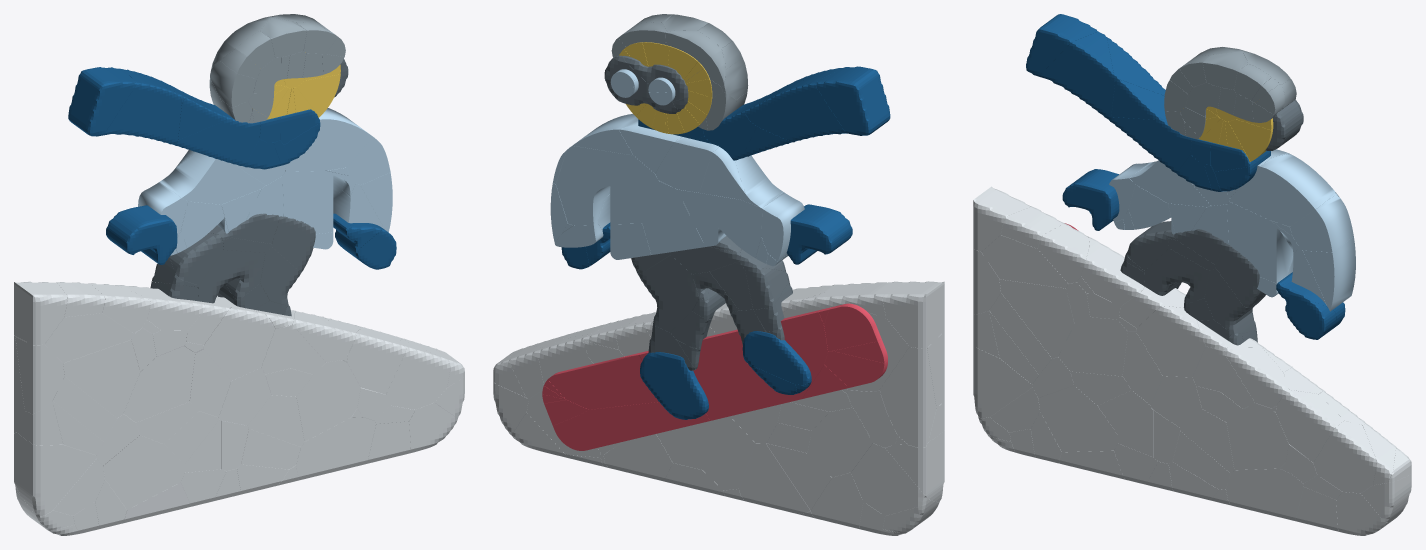
Rendered from Snowboardman.fbx.
3 renders of one model, left to right at view 1: azimuth 30°, elevation 25°; view 2: azimuth 150°, elevation 25°; view 3: azimuth 330°, elevation 25°, orthographic. The views are drawn at different scales.
Parts seen in each view (by area): view 1: Snow_cell.051, Snow_cell.016, Snow_cell.055, Snow_cell.046, Snow_cell.035, Blue_cell.002, Snow_cell.015, Body_cell.014, Snow_cell.027, Blue_cell.007, Body_cell.001, Snow_cell.042 (+71 smaller); view 2: Snowboard_cell.008, Body_cell.011, Snow_cell.049, Snowboard_cell.004, Snowboard_cell.022, Blue_cell.007, Body_cell.020, Snow_cell.006, Snow_cell.039, Blue_cell.023, Snow_cell.012, Snow_cell.074 (+73 smaller); view 3: Body_cell.015, Blue_cell.002, Snow_cell.016, Snow_cell.046, Body_cell.001, Snow_cell.055, Snow_cell.035, Snow_cell.042, Snow_cell.015, Snow_cell.027, Snow_cell.030, Snow_cell.072 (+71 smaller).
Part boxes in pixels (x1,y1,x2,y2): Snow_cell.051: (14, 432, 96, 516); Snow_cell.016: (103, 435, 184, 509); Snow_cell.055: (63, 340, 140, 418); Snow_cell.046: (203, 304, 274, 380); Snow_cell.035: (296, 360, 360, 441); Blue_cell.002: (103, 69, 181, 145); Snow_cell.015: (123, 346, 195, 422); Body_cell.014: (160, 152, 265, 204); Snow_cell.027: (296, 417, 375, 480); Blue_cell.007: (68, 67, 136, 136); Body_cell.001: (282, 171, 355, 233); Snow_cell.042: (386, 339, 450, 409); Snowboard_cell.008: (693, 309, 828, 420); Body_cell.011: (556, 146, 657, 225); Snow_cell.049: (879, 347, 936, 447); Snowboard_cell.004: (548, 355, 658, 409); Snowboard_cell.022: (568, 402, 709, 450); Blue_cell.007: (815, 66, 890, 135); Body_cell.020: (677, 189, 762, 257); Snow_cell.006: (882, 281, 944, 348); Snow_cell.039: (851, 443, 929, 515); Blue_cell.023: (640, 352, 708, 419); Snow_cell.012: (807, 407, 872, 477); Snow_cell.074: (702, 416, 755, 490); Body_cell.015: (1230, 154, 1335, 226); Blue_cell.002: (1039, 31, 1114, 120); Snow_cell.016: (1038, 385, 1117, 452); Snow_cell.046: (1136, 306, 1205, 377); Body_cell.001: (1227, 202, 1298, 283); Snow_cell.055: (999, 279, 1074, 358); Snow_cell.035: (1226, 403, 1288, 470); Snow_cell.042: (1313, 421, 1376, 493); Snow_cell.015: (1058, 317, 1127, 376); Snow_cell.027: (1226, 468, 1303, 521); Snow_cell.030: (1276, 390, 1344, 462); Snow_cell.072: (981, 235, 1068, 288).
Size of the model in its own units: 10.63 by 10.63 by 1.27.
